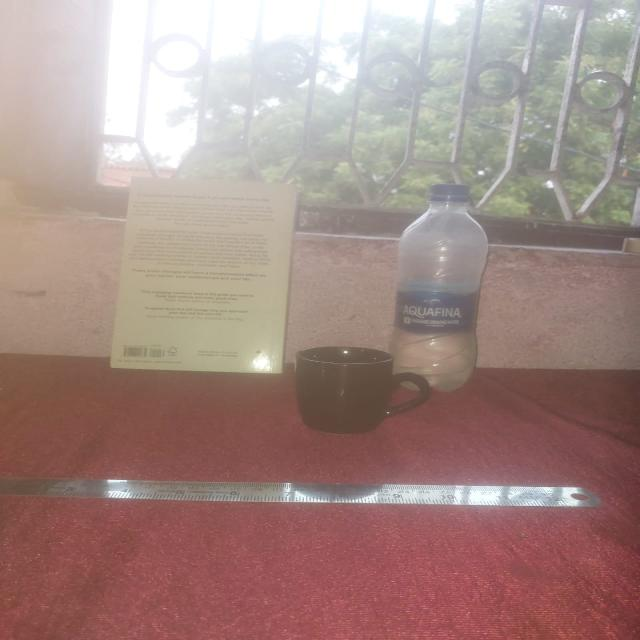Book: (112, 178, 290, 369)
Bottle: (395, 179, 506, 384)
Cup: (277, 348, 433, 433)
scale: (7, 462, 620, 511)
